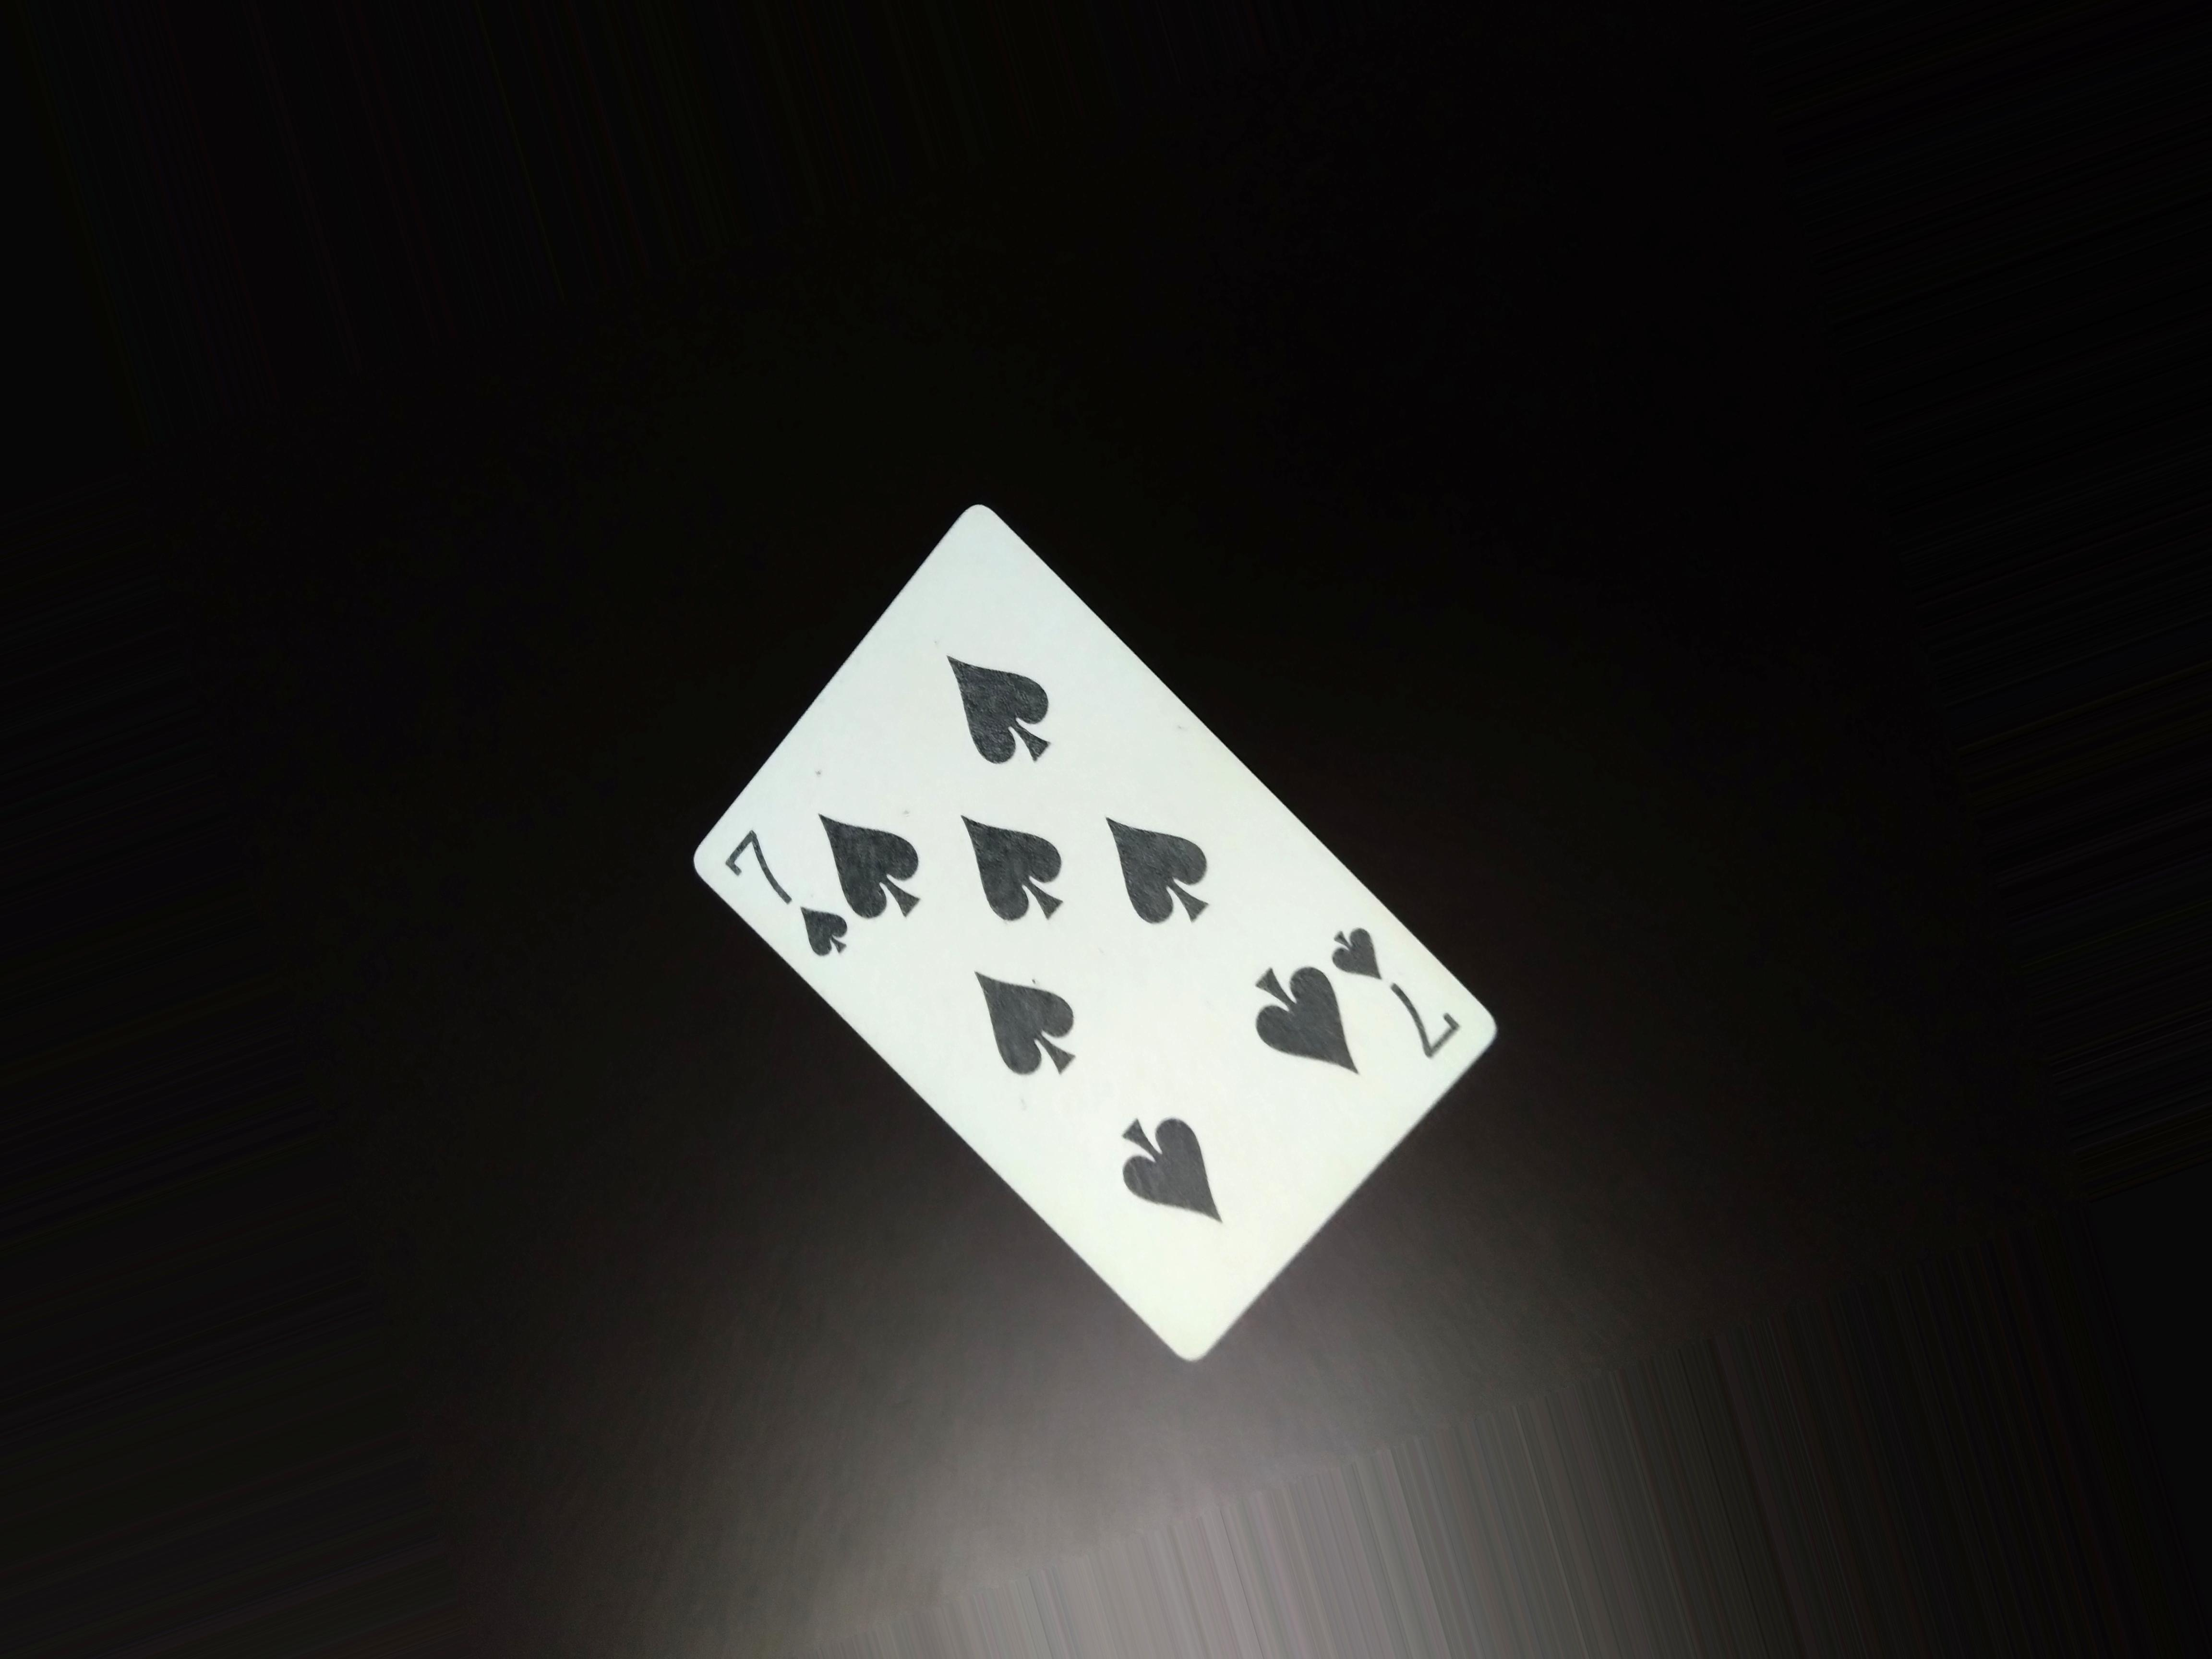7S: (1329, 911, 1484, 1082)
